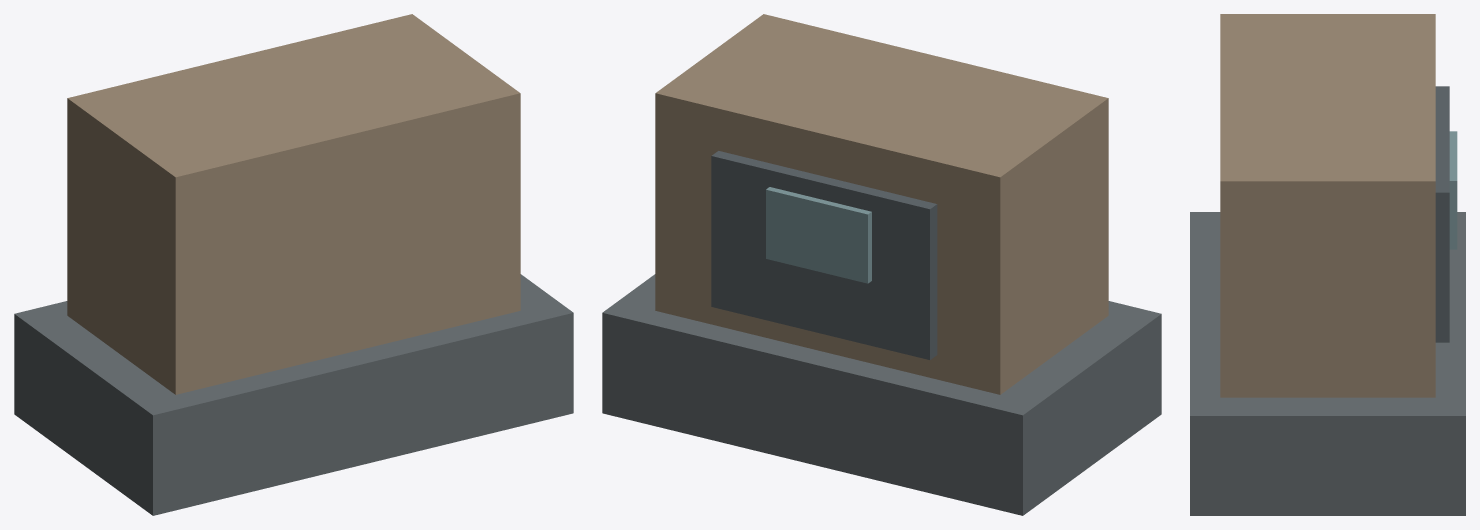
File: iz3_production_kitchen_02.glb
3 renders of one model, left to right at view 1: azimuth 30°, elevation 25°; view 2: azimuth 150°, elevation 25°; view 3: azimuth 270°, elevation 25°, orthographic.
Visible parts, largest first — view 1: cabinet, base; view 2: cabinet, base, panel, display; view 3: cabinet, base, panel, display.
Part boxes in pixels (bbox=[...]): cabinet: bbox=[67, 14, 520, 394]; base: bbox=[14, 274, 573, 515]; cabinet: bbox=[655, 14, 1108, 394]; base: bbox=[602, 274, 1161, 515]; panel: bbox=[711, 151, 937, 359]; display: bbox=[766, 187, 871, 283]; cabinet: bbox=[1220, 14, 1435, 397]; base: bbox=[1190, 212, 1465, 515]; panel: bbox=[1435, 86, 1449, 342]; display: bbox=[1449, 131, 1457, 249].
Bounding box in the file's own units: 1.4 × 1.01 × 0.8.
